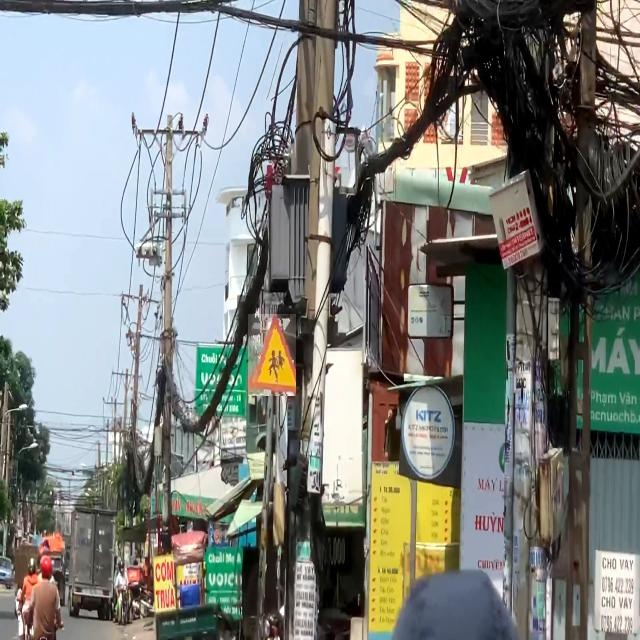bien_nguy_hiem: (248, 314, 296, 396)
